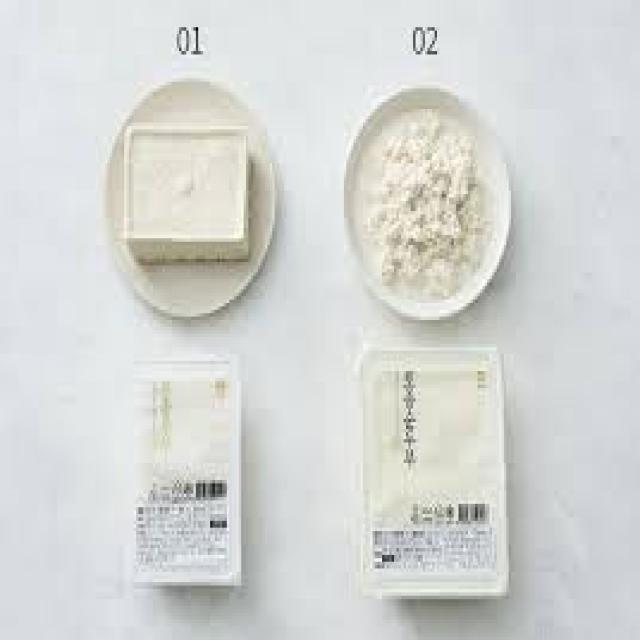tofu: (350, 328, 525, 615), (118, 345, 267, 627), (118, 117, 265, 276)
